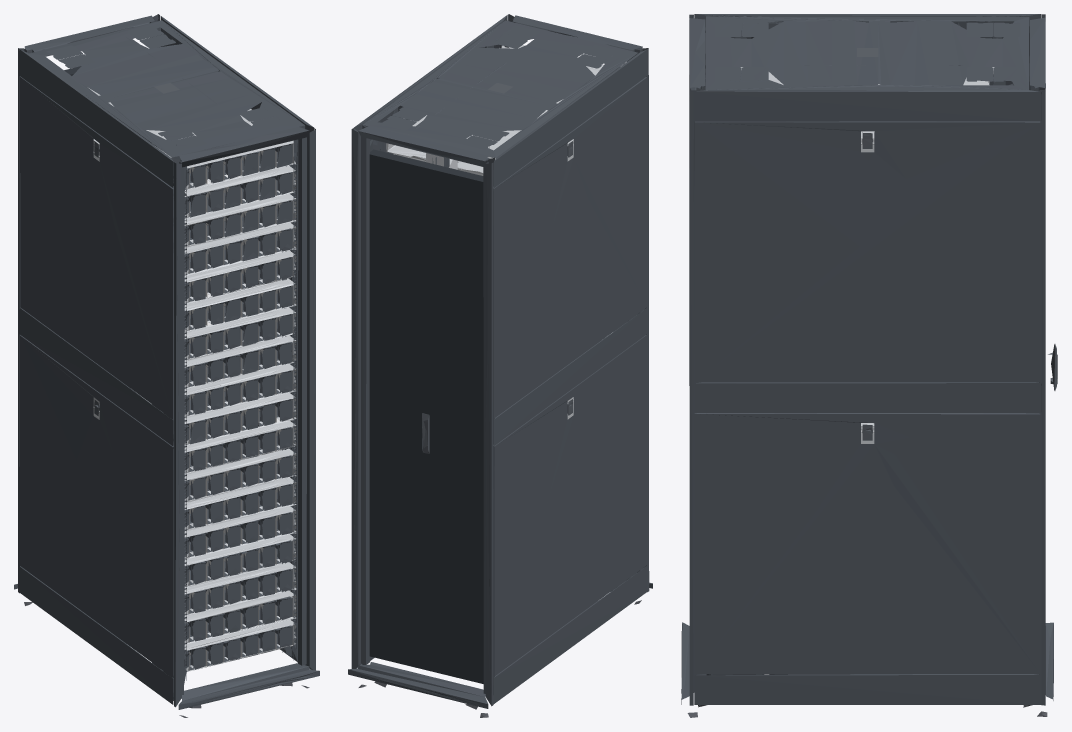
The model's file is hardware_ocp_populated_rack.glb.
3 views of the same model, side by side, from view 1: azimuth 30°, elevation 25°; view 2: azimuth 150°, elevation 25°; view 3: azimuth 270°, elevation 25° (orthographic). The views are drawn at different scales.
Visible parts, largest first — view 1: ocp_pop_0; view 2: ocp_pop_0; view 3: ocp_pop_0.
Boxes of the visible parts, <box> form: ocp_pop_0: <box>14,14,319,717</box>; ocp_pop_0: <box>348,14,652,717</box>; ocp_pop_0: <box>681,14,1057,717</box>.
Bounding box in the file's own units: 0.5385 × 2.04 × 1.1.
Materials: 1 (1 with a texture image).
